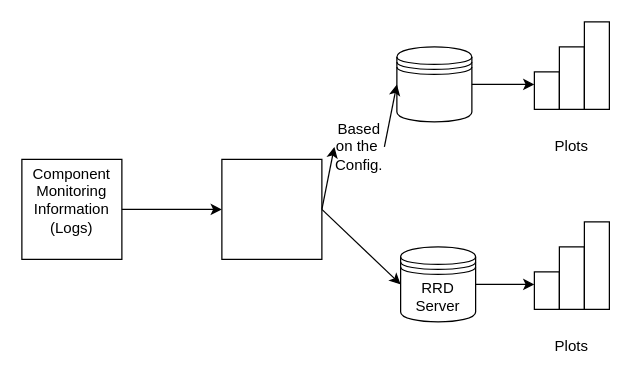
This 631x381 diagram has some shape labels left out. Each missing label, with the box of its shape:
DISET (Service): (221, 158, 322, 259)
ElasticDB: (396, 46, 472, 122)
